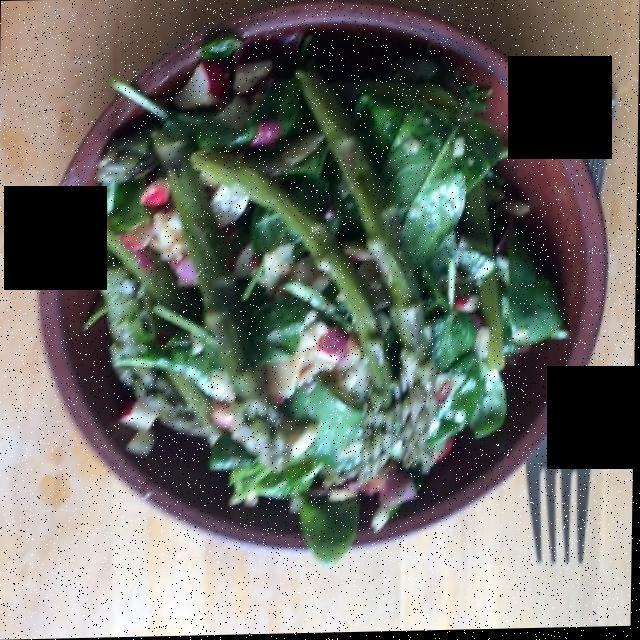asparagus: (99, 63, 512, 475)
spinach: (86, 31, 557, 545)
